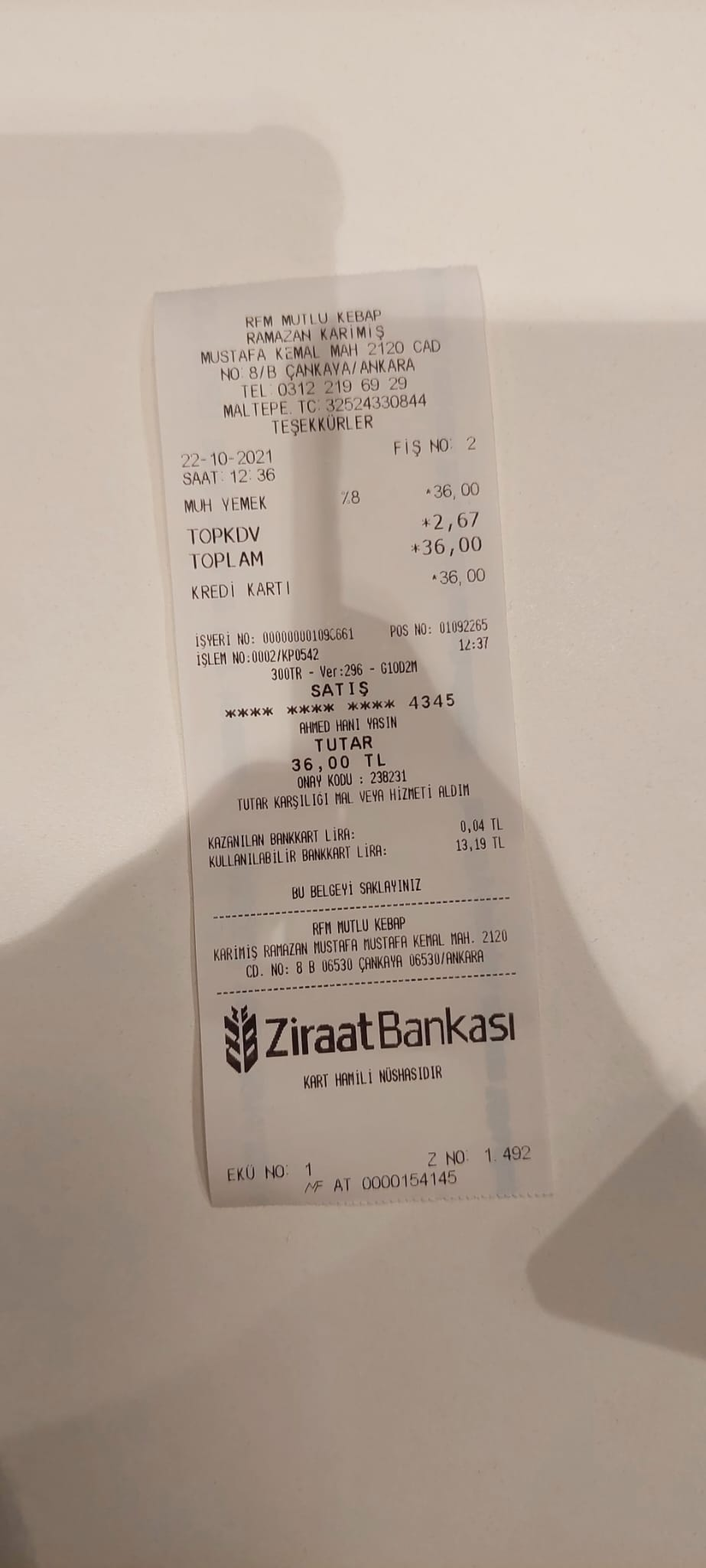date: (420, 532, 490, 560)
price: (174, 443, 279, 470)
workplace: (196, 302, 458, 383)
